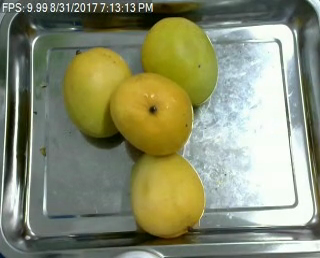Mango: (127, 147, 208, 237), (112, 70, 194, 154), (62, 47, 136, 139), (137, 18, 216, 101)
